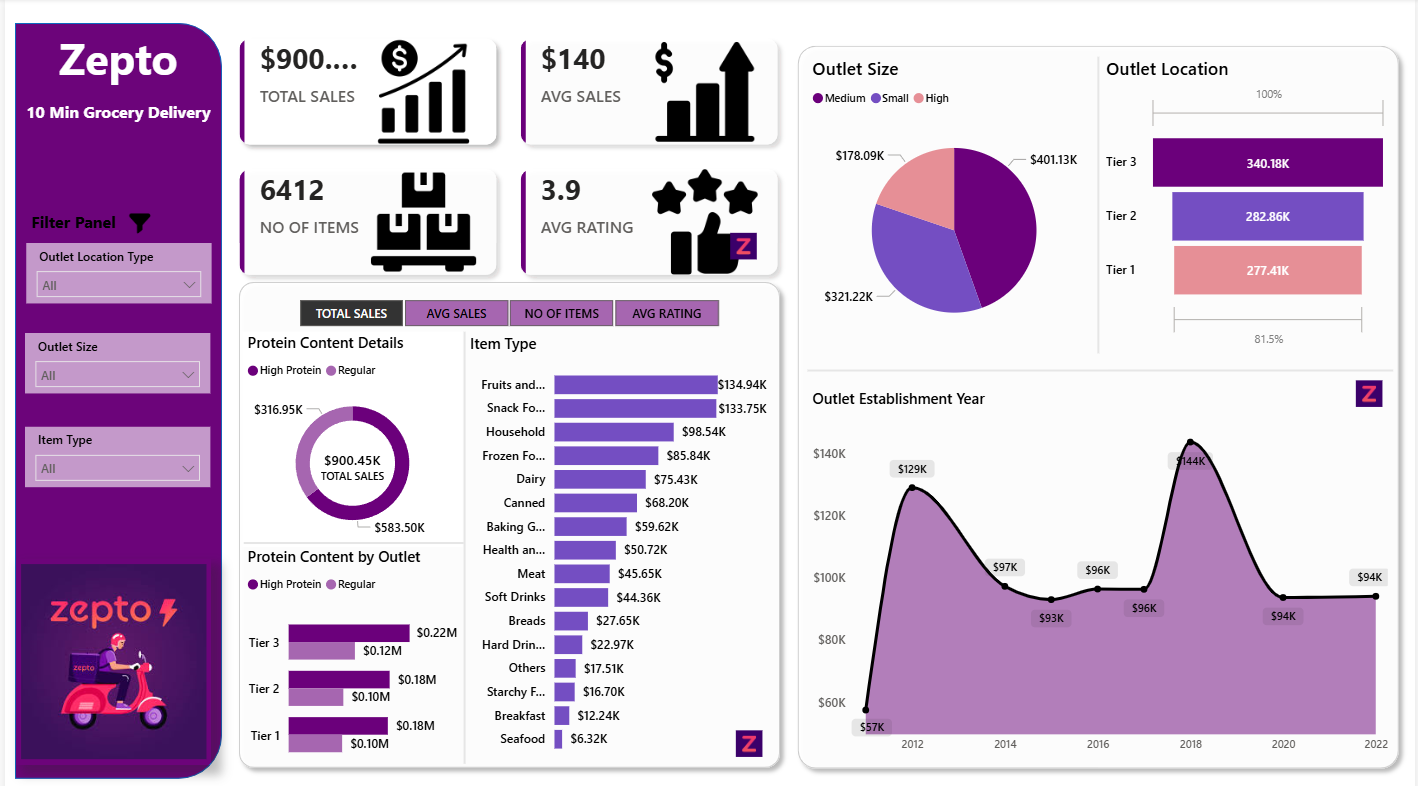

What the dashboard file says about the page in this screenshot:
{"tool":"powerbi","page":{"name":"Page 1","canvas":[1400,800],"ordinal":0},"visuals":[{"type":"shape","box":[9.9,24.8,205.4,750.2],"z":0},{"type":"textbox","box":[9.8,24.5,205.4,68.5],"z":1000},{"type":"textbox","box":[9.8,96.2,205.4,73.4],"z":2000},{"type":"cardVisual","fields":{"Data":["Zepto Grocery Sales.TOTAL SALES","Zepto Grocery Sales.AVG SALES","Zepto Grocery Sales.NO OF ITEMS","Zepto Grocery Sales.AVG RATING"]},"box":[215.3,23.2,569.7,270],"z":3000},{"type":"shape","box":[223.6,273.3,554.8,500.2],"z":4000},{"type":"slicer","fields":{"Values":["Metrics.Metrics"]},"box":[266.6,293.1,465.4,38.1],"z":5000},{"type":"donutChart","title":"Protein Content Details","fields":{"Y":["Zepto Grocery Sales.TOTAL SALES"],"Category":["Zepto Grocery Sales.Item Protein Content"]},"box":[235.2,331.2,218.6,213.6],"z":6000},{"type":"cardVisual","fields":{"Data":["Zepto Grocery Sales.TOTAL SALES"]},"box":[294.8,437.2,99.4,58],"z":7000},{"type":"clusteredBarChart","title":"Protein Content by Outlet","fields":{"Y":["Zepto Grocery Sales.TOTAL SALES"],"Category":["Zepto Grocery Sales.Outlet Location Type"],"Series":["Zepto Grocery Sales.Item Protein Content"]},"box":[235.2,543.2,218.6,230.2],"z":8000},{"type":"shape","box":[236.8,523.3,218.6,34.8],"z":9000},{"type":"shape","box":[435.6,331.2,41.4,428.9],"z":10000},{"type":"barChart","title":"Item Type","fields":{"Y":["Zepto Grocery Sales.TOTAL SALES"],"Category":["Zepto Grocery Sales.Item Type"]},"box":[457.1,332.9,304.7,427.3],"z":11000},{"type":"shape","box":[778.4,38.1,614.4,735.3],"z":12000},{"type":"lineChart","title":"Outlet Establishment Year","fields":{"Y":["Zepto Grocery Sales.TOTAL SALES"],"Category":["Zepto Grocery Sales.Outlet Establishment Year.Variation.Date Hierarchy.Month"]},"box":[796.6,387.5,581.3,371],"z":13000},{"type":"shape","box":[796.6,352.8,581.3,34.8],"z":14000},{"type":"donutChart","title":"Outlet Size","fields":{"Y":["Zepto Grocery Sales.TOTAL SALES"],"Category":["Zepto Grocery Sales.Outlet Size"]},"box":[796.6,58,291.5,294.8],"z":15000},{"type":"funnel","title":"Outlet Location","fields":{"Category":["Zepto Grocery Sales.Outlet Location Type"],"Y":["Sum(Zepto Grocery Sales.Sales)"]},"box":[1088.1,58,289.8,294.8],"z":16000},{"type":"shape","box":[1064.9,58,41.4,294.8],"z":17000},{"type":"slicer","fields":{"Values":["Zepto Grocery Sales.Outlet Location Type"]},"box":[21.5,243.5,183.8,59.6],"z":18000},{"type":"slicer","fields":{"Values":["Zepto Grocery Sales.Outlet Size"]},"box":[19.9,332.9,183.8,59.6],"z":19000},{"type":"slicer","fields":{"Values":["Zepto Grocery Sales.Item Type"]},"box":[19.9,425.6,183.8,59.6],"z":20000},{"type":"textbox","box":[21.5,205.4,104.3,44.7],"z":21000},{"type":"image","box":[114.3,205.4,39.7,34.8],"z":21001},{"type":"image","box":[11.6,556.5,193.8,203.7],"z":21002},{"type":"image","box":[713.8,228.6,39.7,36.4],"z":21003},{"type":"image","box":[1328.2,374.3,49.7,36.4],"z":21004},{"type":"image","box":[713.8,722.1,49.7,36.4],"z":21005}]}

Visuals, with their boxes on the page's 1400x800 design canvas (x1, y1, x2, y2). These are canvas units, not pixel positions in the 1418x786 screenshot, which may show the page scaled, cropped or inside an application window:
shape: x1=10, y1=25, x2=215, y2=775
textbox: x1=10, y1=24, x2=215, y2=93
textbox: x1=10, y1=96, x2=215, y2=170
cardVisual - Zepto Grocery Sales.TOTAL SALES x Zepto Grocery Sales.AVG SALES: x1=215, y1=23, x2=785, y2=293
shape: x1=224, y1=273, x2=778, y2=774
slicer - Metrics.Metrics: x1=267, y1=293, x2=732, y2=331
"Protein Content Details" donutChart: x1=235, y1=331, x2=454, y2=545
cardVisual - Zepto Grocery Sales.TOTAL SALES: x1=295, y1=437, x2=394, y2=495
"Protein Content by Outlet" clusteredBarChart: x1=235, y1=543, x2=454, y2=773
shape: x1=237, y1=523, x2=455, y2=558
shape: x1=436, y1=331, x2=477, y2=760
"Item Type" barChart: x1=457, y1=333, x2=762, y2=760
shape: x1=778, y1=38, x2=1393, y2=773
"Outlet Establishment Year" lineChart: x1=797, y1=388, x2=1378, y2=758
shape: x1=797, y1=353, x2=1378, y2=388
"Outlet Size" donutChart: x1=797, y1=58, x2=1088, y2=353
"Outlet Location" funnel: x1=1088, y1=58, x2=1378, y2=353
shape: x1=1065, y1=58, x2=1106, y2=353
slicer - Zepto Grocery Sales.Outlet Location Type: x1=22, y1=244, x2=205, y2=303
slicer - Zepto Grocery Sales.Outlet Size: x1=20, y1=333, x2=204, y2=392
slicer - Zepto Grocery Sales.Item Type: x1=20, y1=426, x2=204, y2=485
textbox: x1=22, y1=205, x2=126, y2=250
image: x1=114, y1=205, x2=154, y2=240
image: x1=12, y1=556, x2=205, y2=760
image: x1=714, y1=229, x2=754, y2=265
image: x1=1328, y1=374, x2=1378, y2=411
image: x1=714, y1=722, x2=764, y2=758
